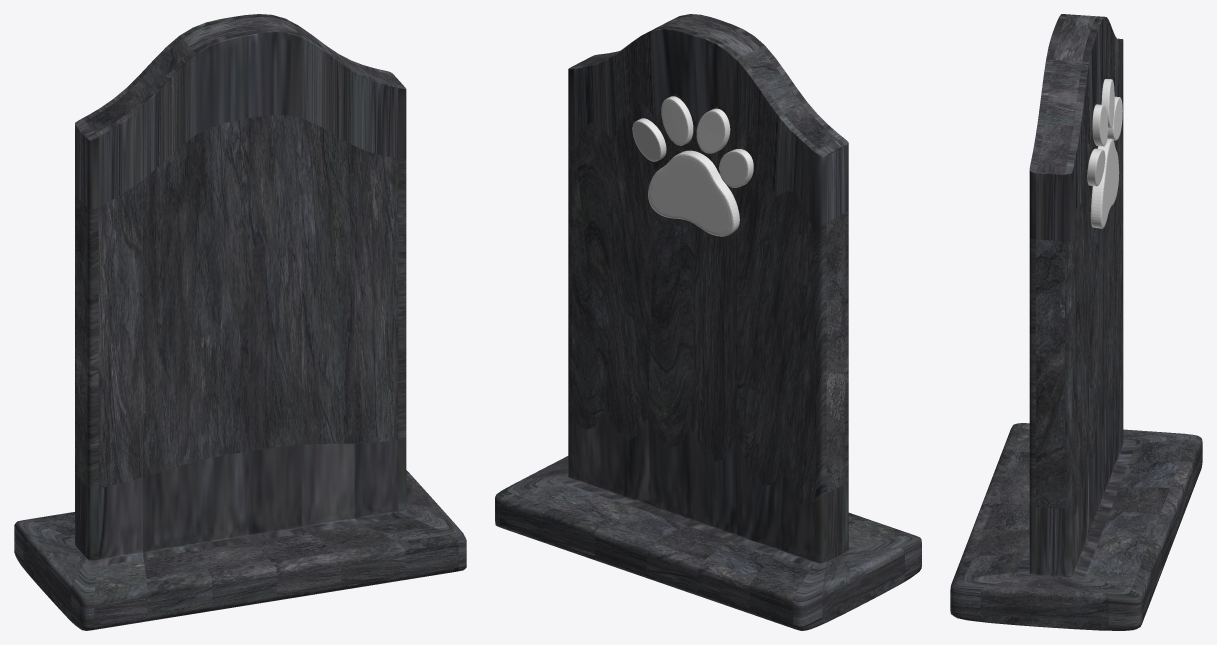
Rendered from Tumba_Normal.fbx.
3 views of the same model, side by side, from view 1: azimuth 30°, elevation 25°; view 2: azimuth 150°, elevation 25°; view 3: azimuth 270°, elevation 25° (orthographic). The views are drawn at different scales.
Parts seen in each view (by area): view 1: Tumba; view 2: Tumba, Huellita; view 3: Tumba, Huellita.
Boxes of the visible parts, left/top/right/bottom form: Tumba: left=14, top=14, right=466, bottom=630; Tumba: left=495, top=14, right=921, bottom=630; Huellita: left=632, top=96, right=753, bottom=236; Tumba: left=950, top=14, right=1202, bottom=630; Huellita: left=1087, top=79, right=1122, bottom=228.
Bounding box in the file's own units: 4.31 × 5.88 × 2.6.
2 materials, 1 textured.
